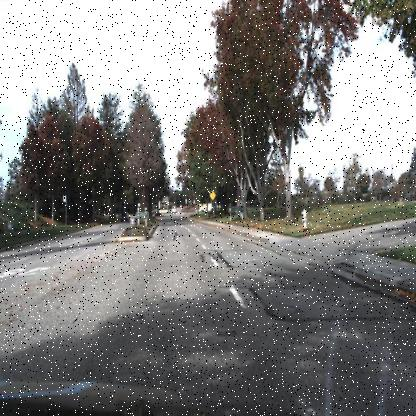car: (118, 210, 130, 222)
